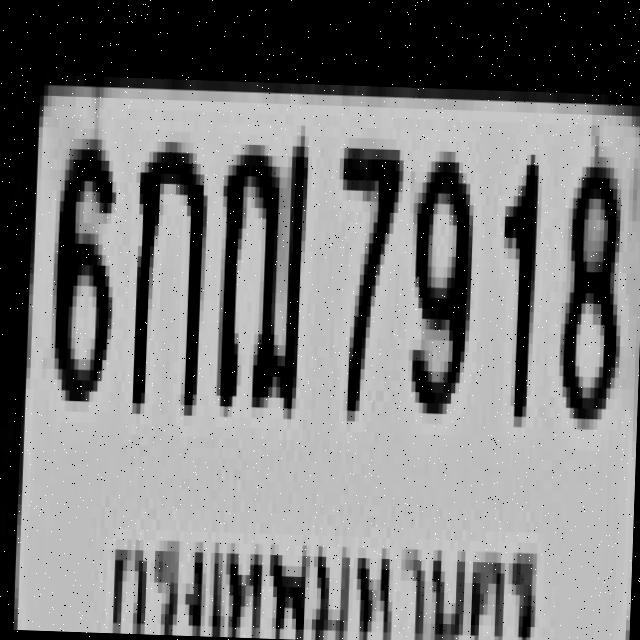1: (494, 143, 536, 417)
10GorGai: (128, 130, 205, 405)
21ChorChoe: (212, 128, 305, 404)
6: (45, 127, 114, 391)
7: (330, 137, 400, 412)
8: (554, 145, 622, 420)
9: (407, 140, 472, 403)
Bangkok: (106, 502, 549, 640)
